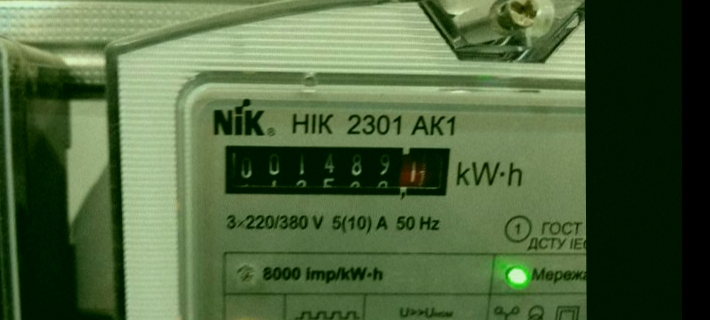0: (264, 152, 281, 177), (238, 156, 253, 181)
1: (293, 150, 308, 180), (406, 156, 418, 186)
4: (320, 151, 337, 177)
8: (346, 151, 364, 178)
9: (375, 153, 391, 178)
screen: (208, 134, 465, 212)
